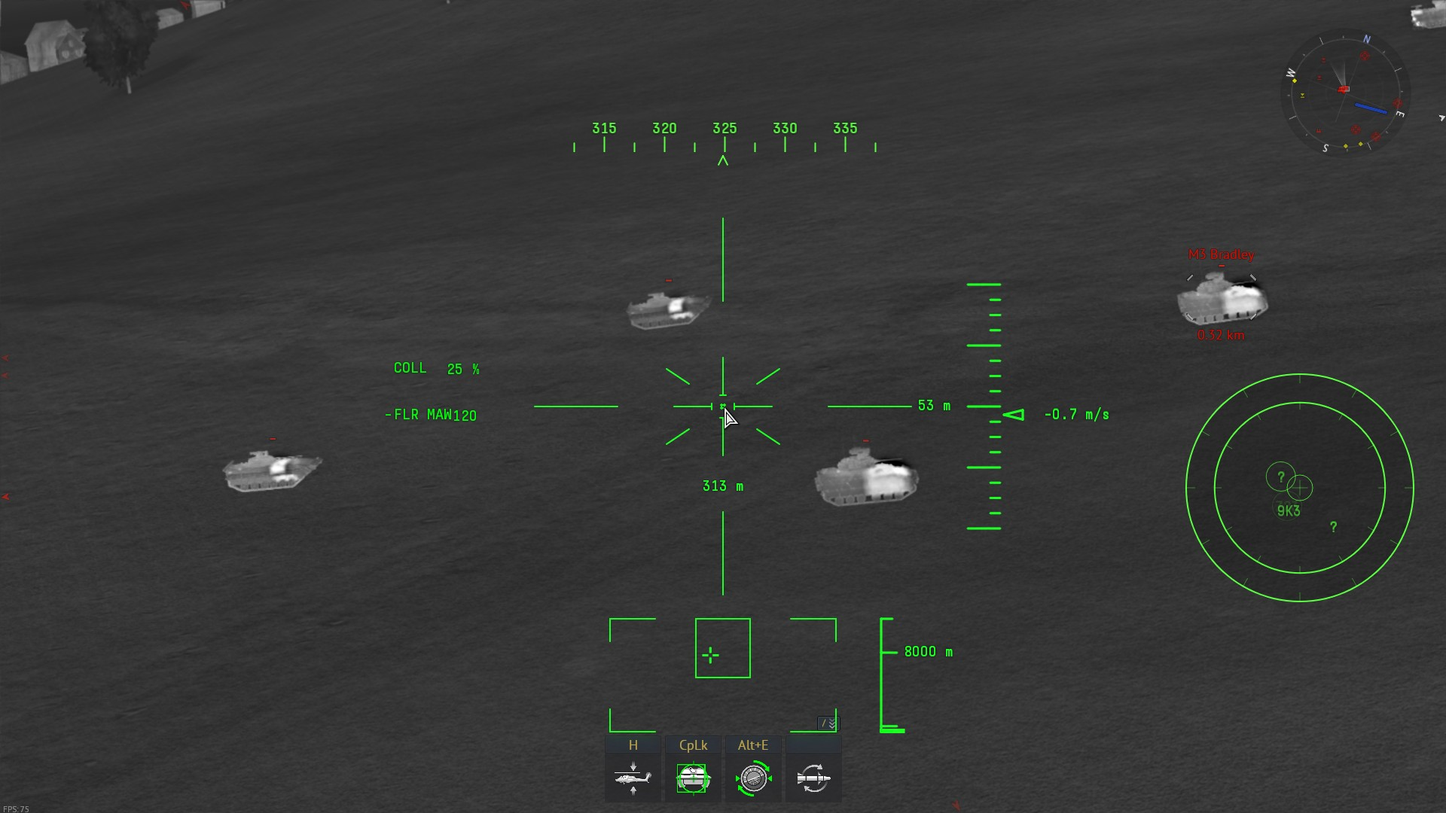bmp2: (223, 450, 324, 493), (627, 292, 712, 331)
bradley: (815, 446, 919, 508), (1178, 271, 1269, 325)
